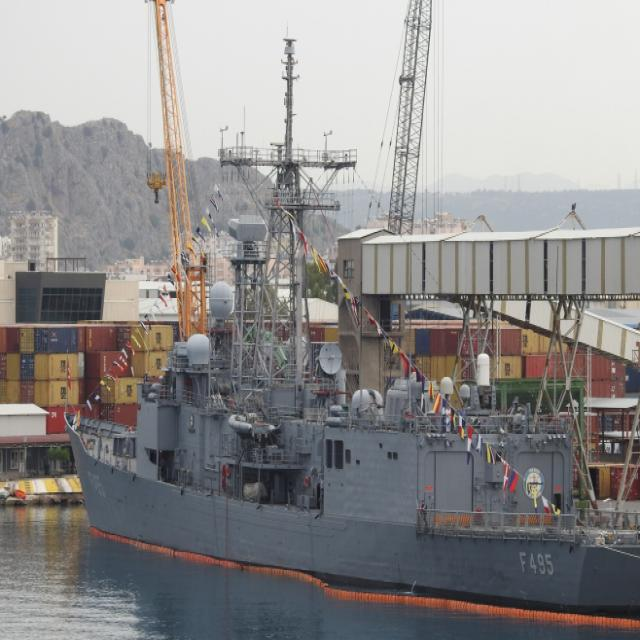Fragata: (62, 8, 640, 628)
